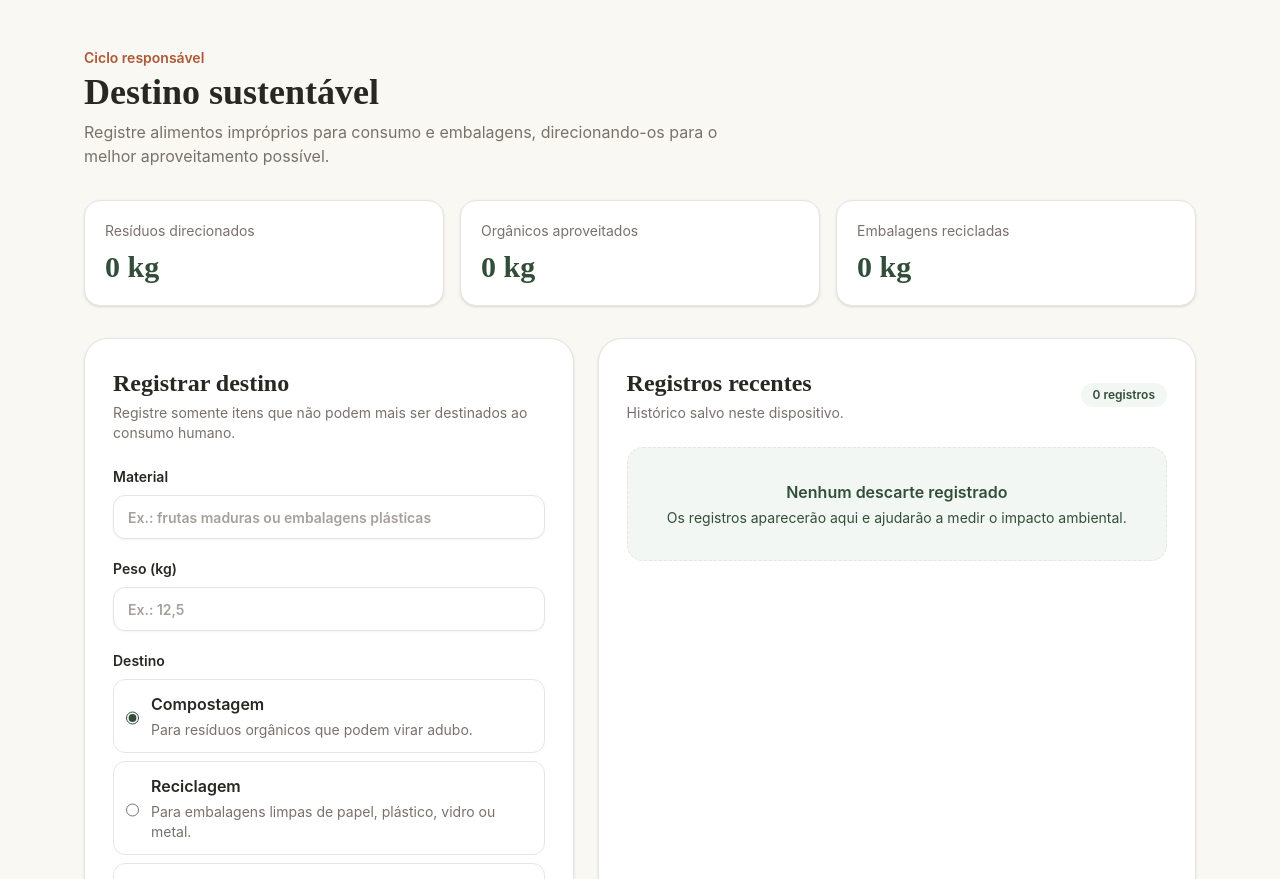
Scenario: SustainableDestinationView › registra material e atualiza os indicadores
Type "Cascas de legumes" into the field labelled "Material". click: point(329, 517)
box: [113,495,545,539]
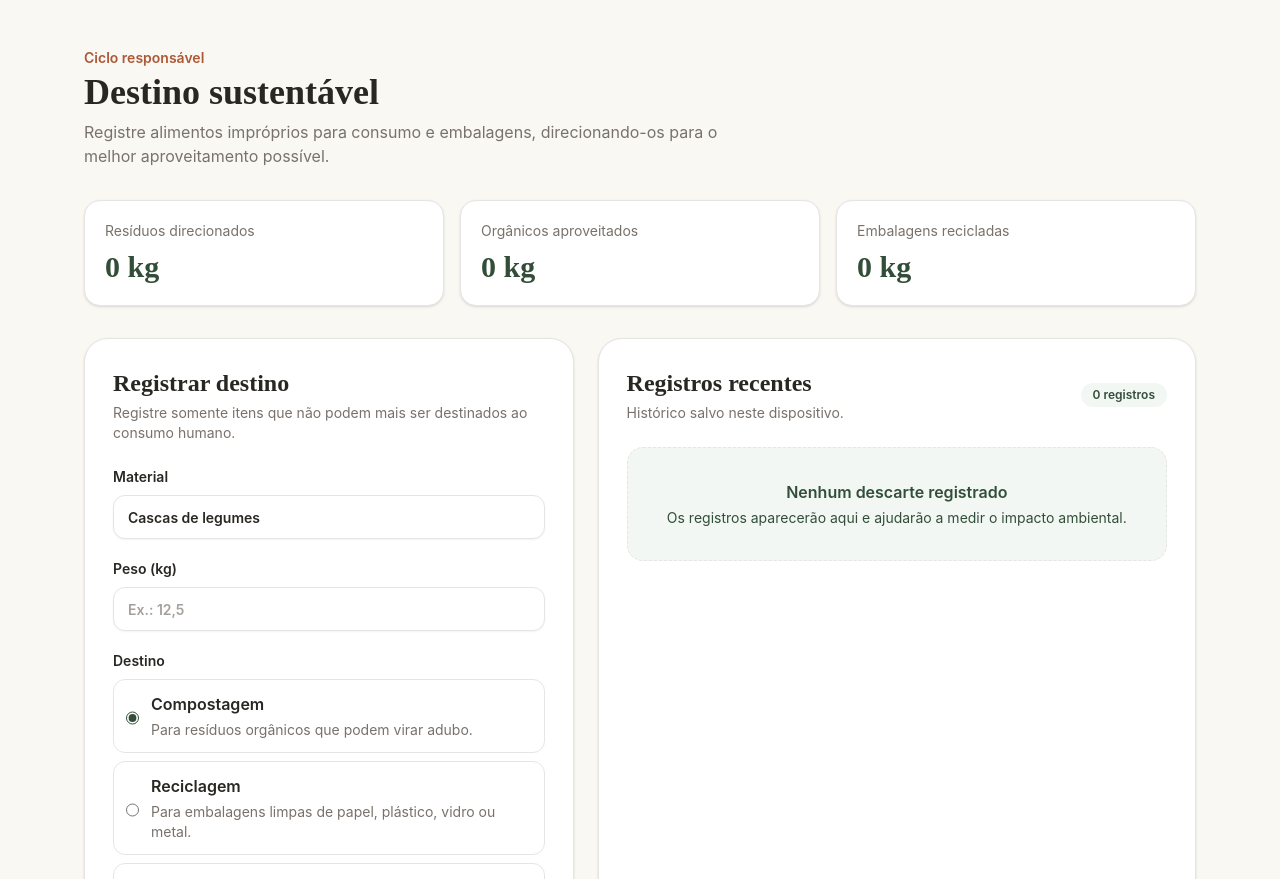
Type "12,5" into the field labelled "Peso (kg)". click: point(329, 609)
box: [113,587,545,631]
(page scrolled)
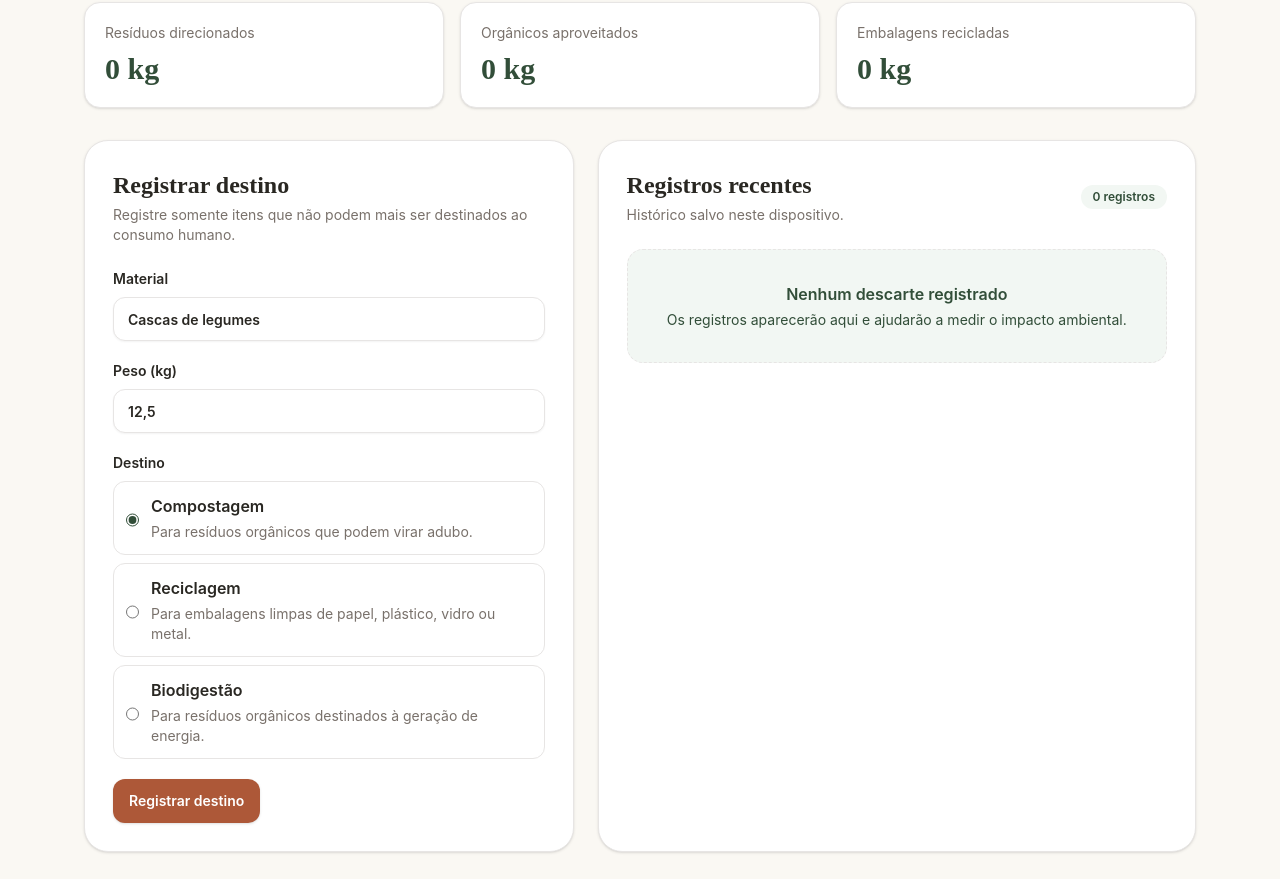
Submit the form, box [113,269,545,823]
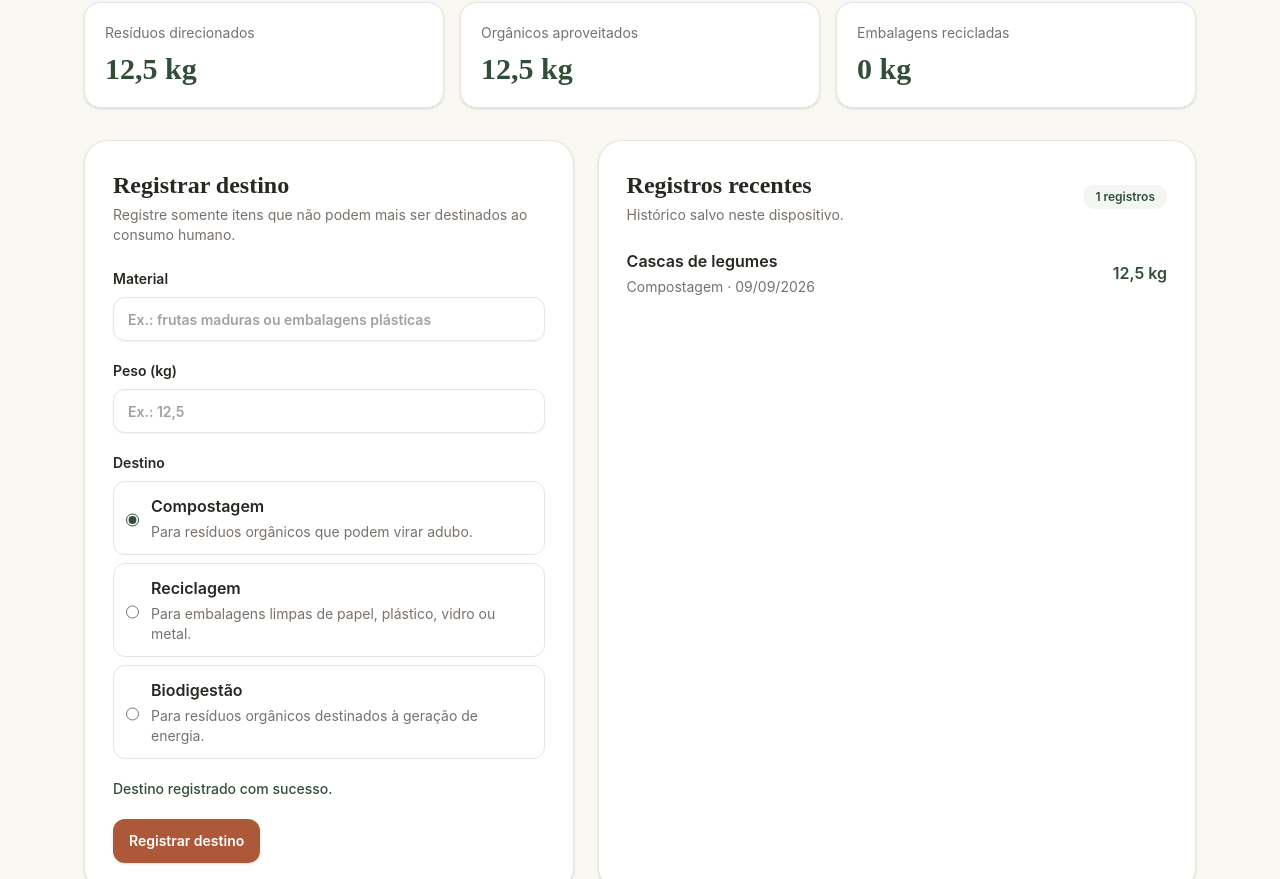
Check: the text "Destino registrado com sucesso." is shown, box [113,780,332,797]
Check: the text "12,5 kg" is shown, box [105,52,197,85]
Check: the text "Cascas de legumes" is shown, box [627,251,777,271]
